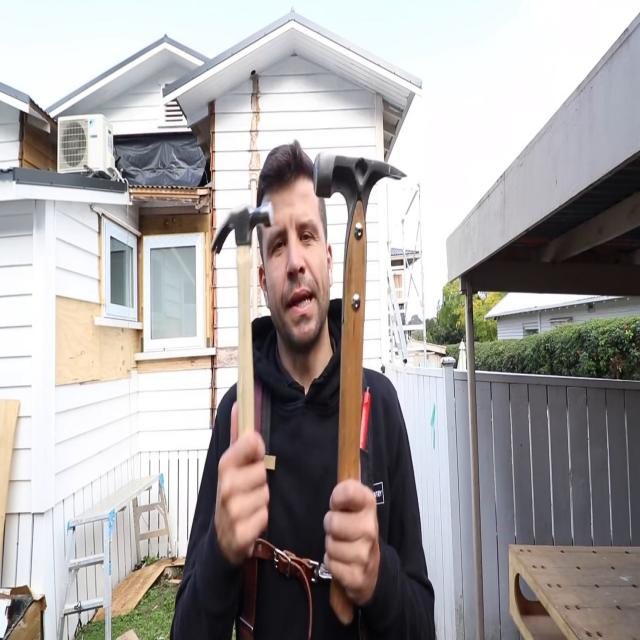hammer: (314, 152, 406, 624), (213, 205, 272, 437)
